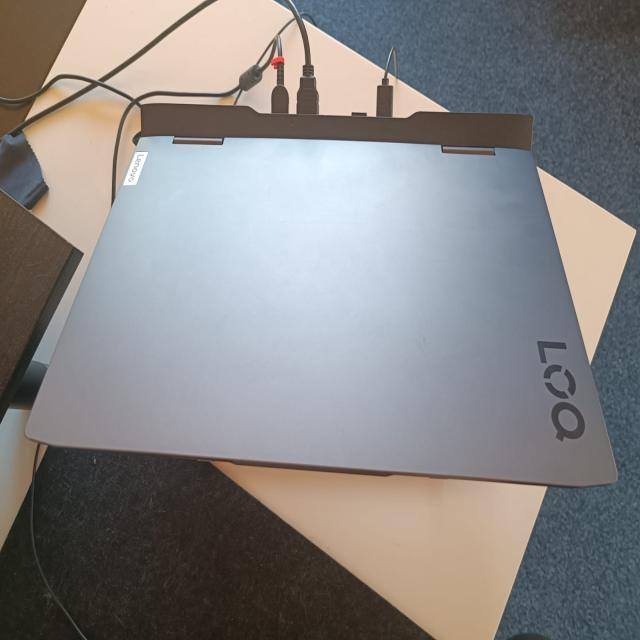Laptops_bbox: (28, 78, 620, 552)
